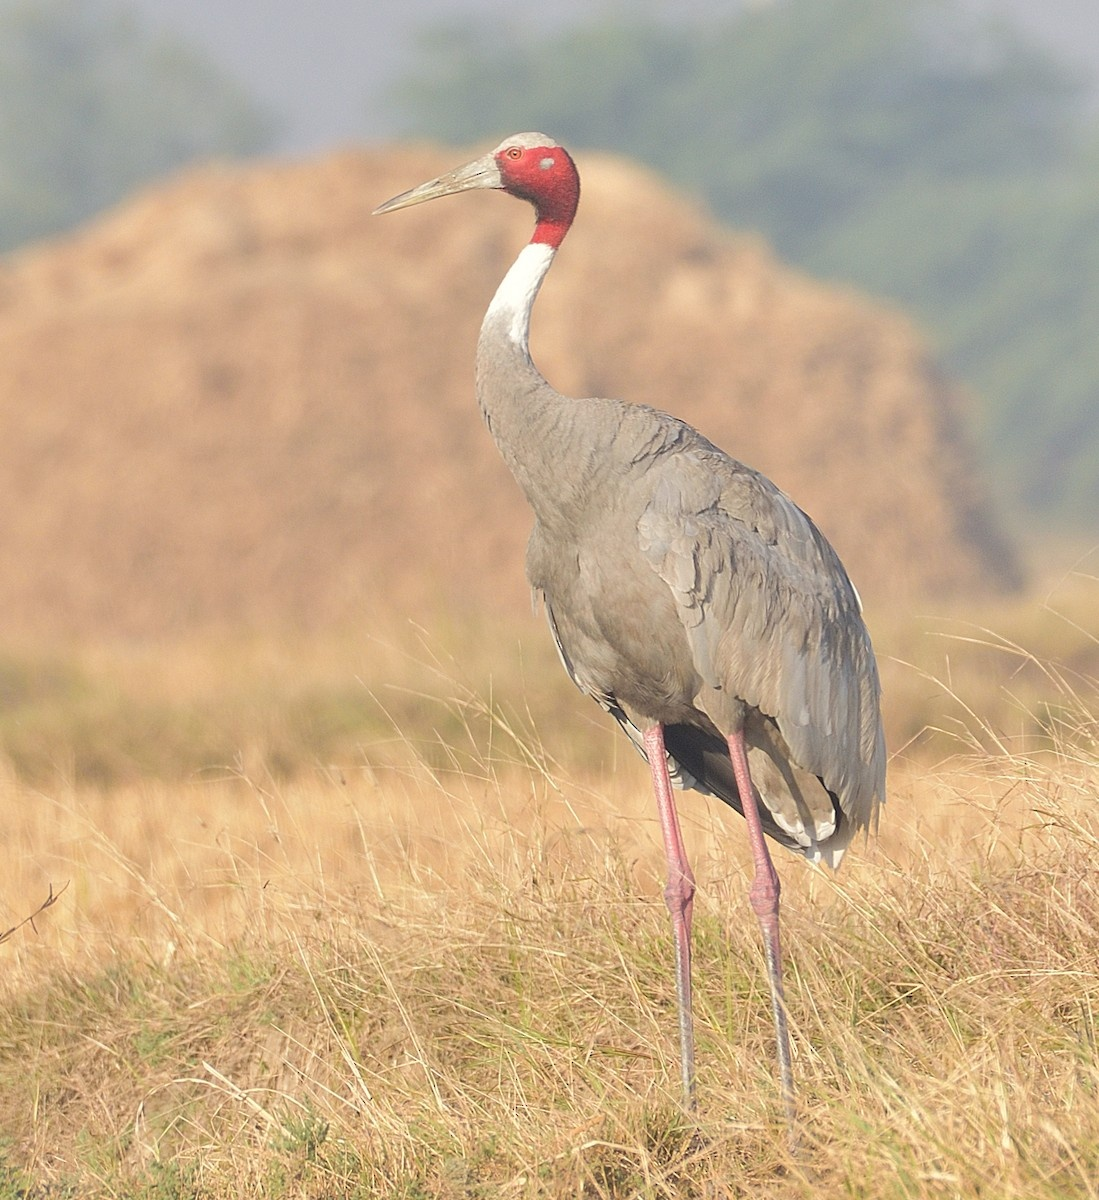crane: (362, 126, 948, 1143)
